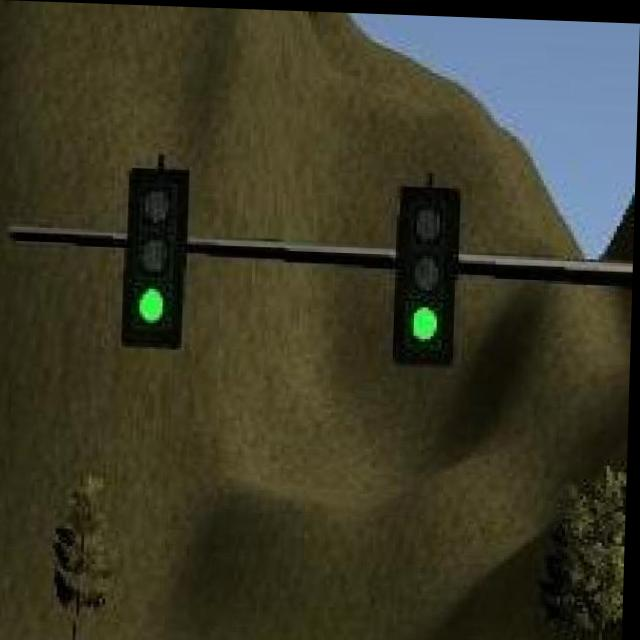green light: (124, 167, 194, 346), (392, 184, 462, 363)
